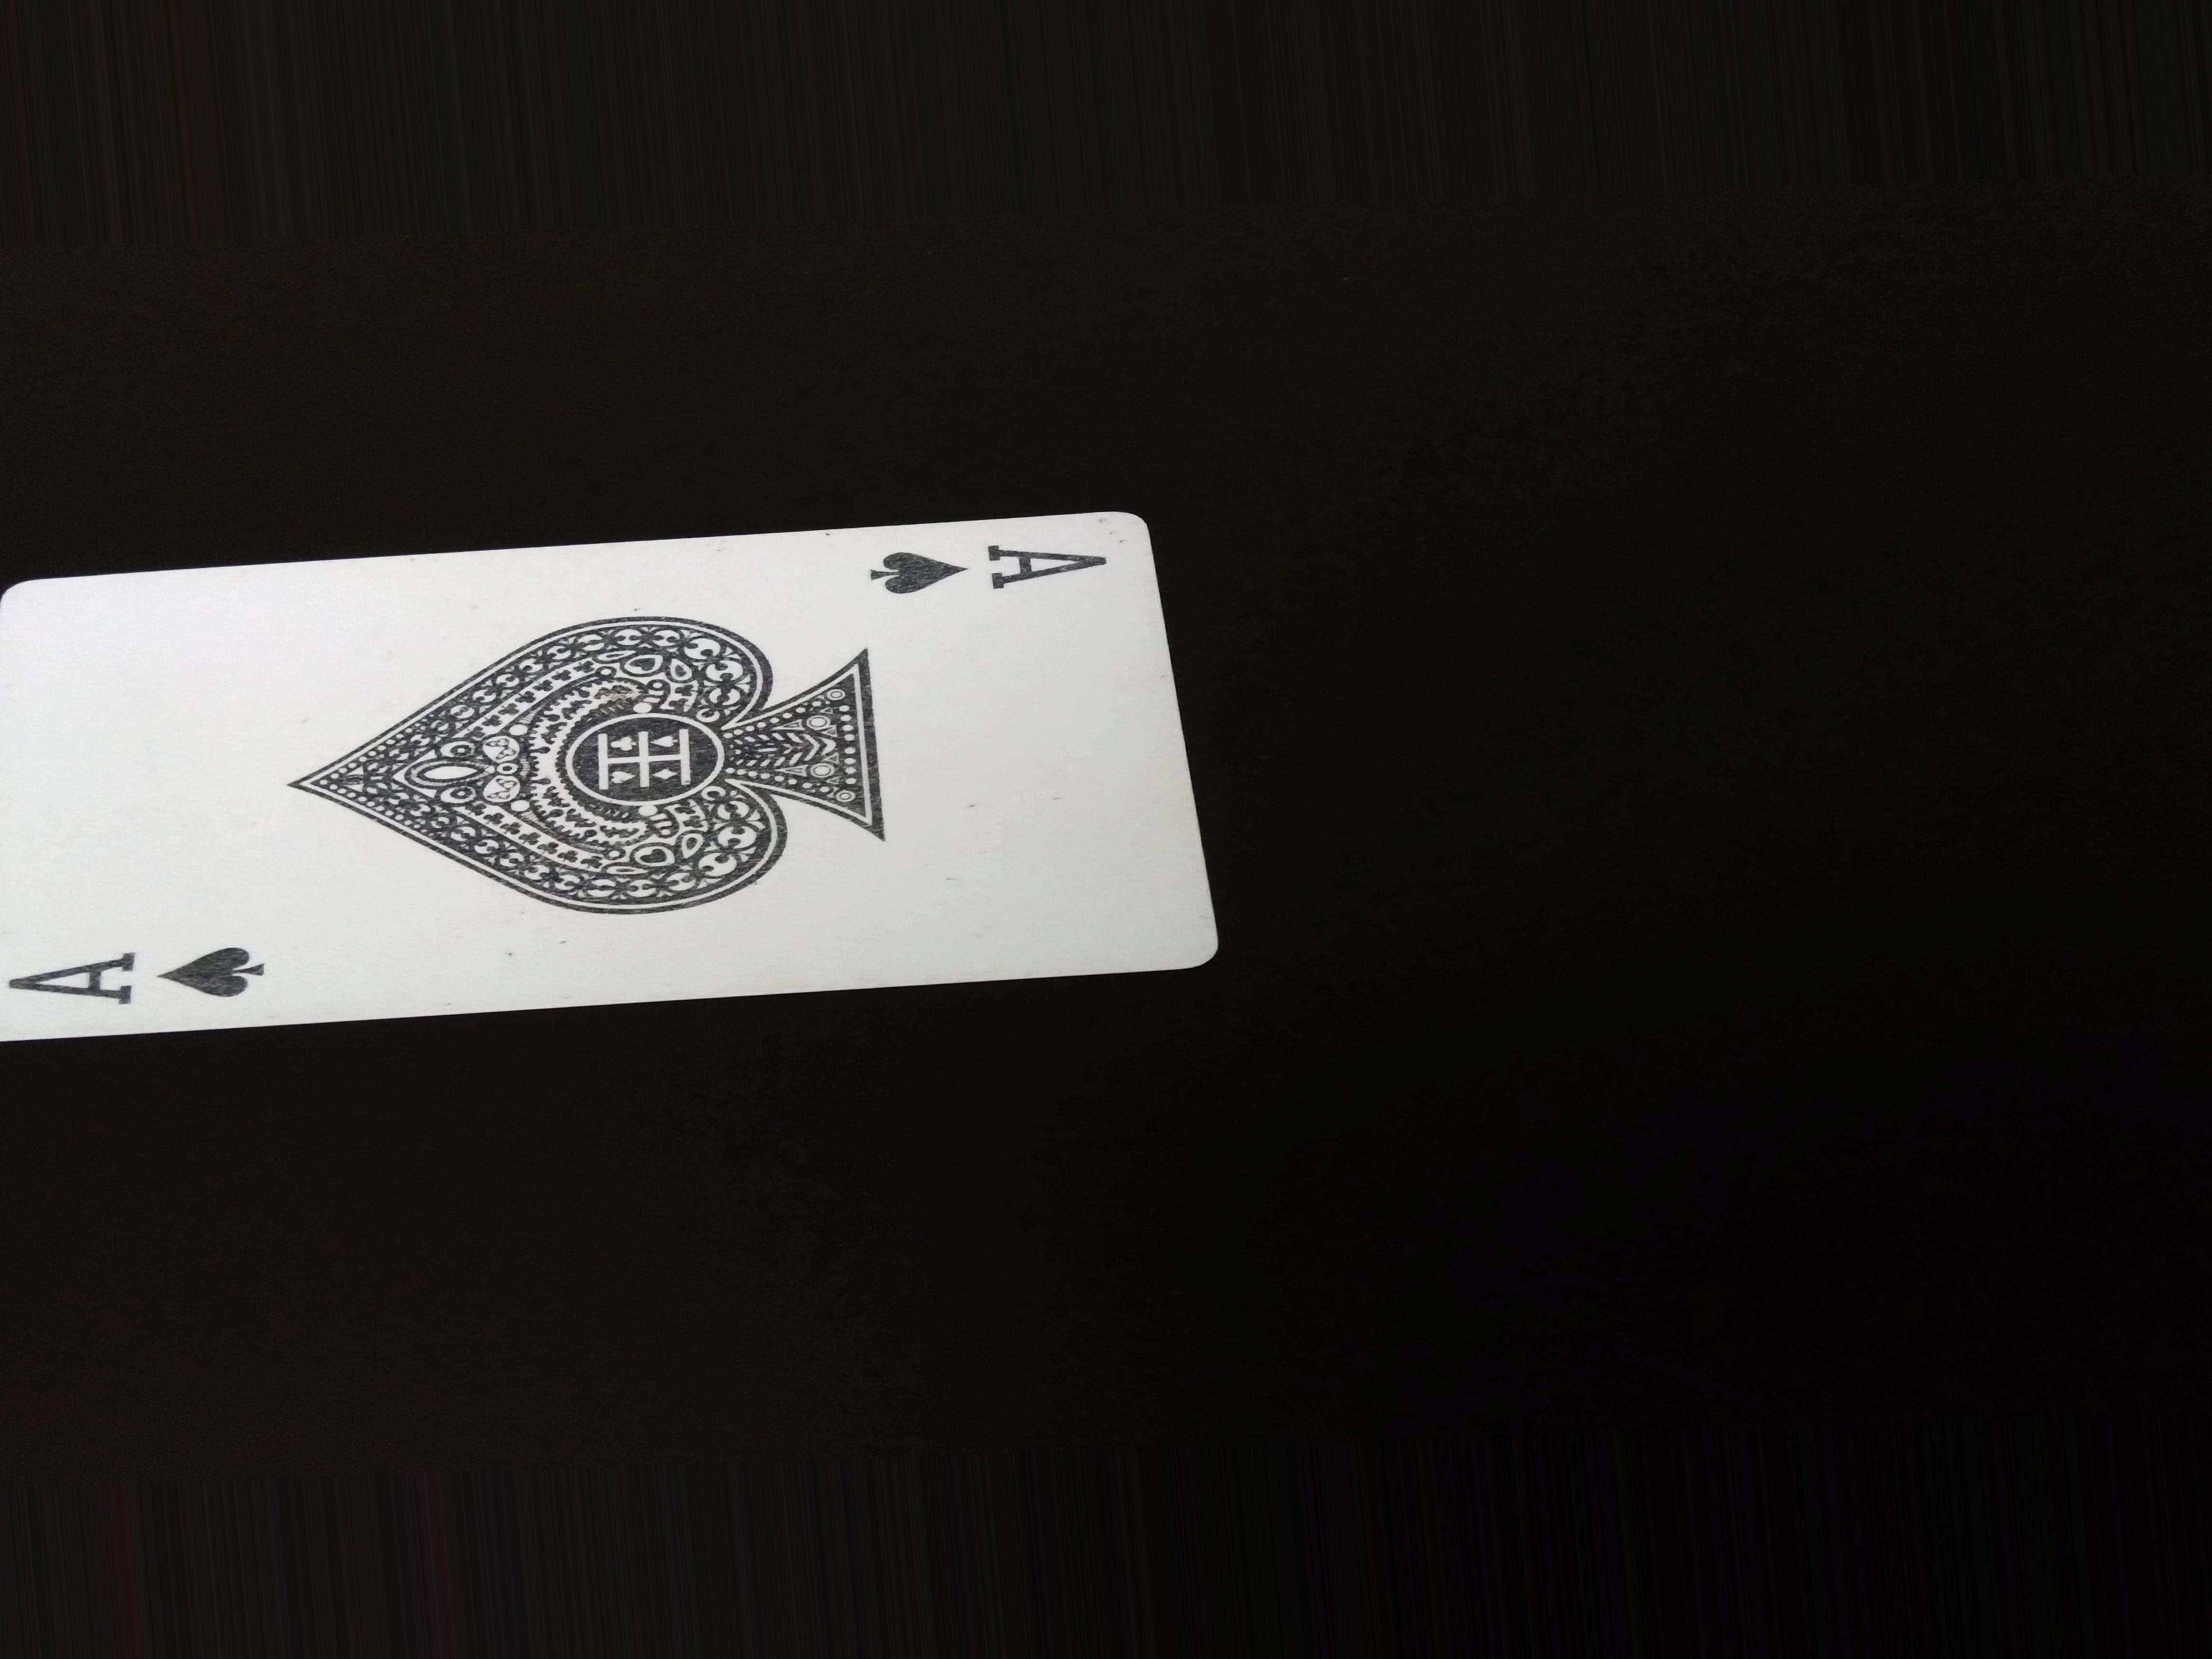AS: (820, 542, 1129, 599)
